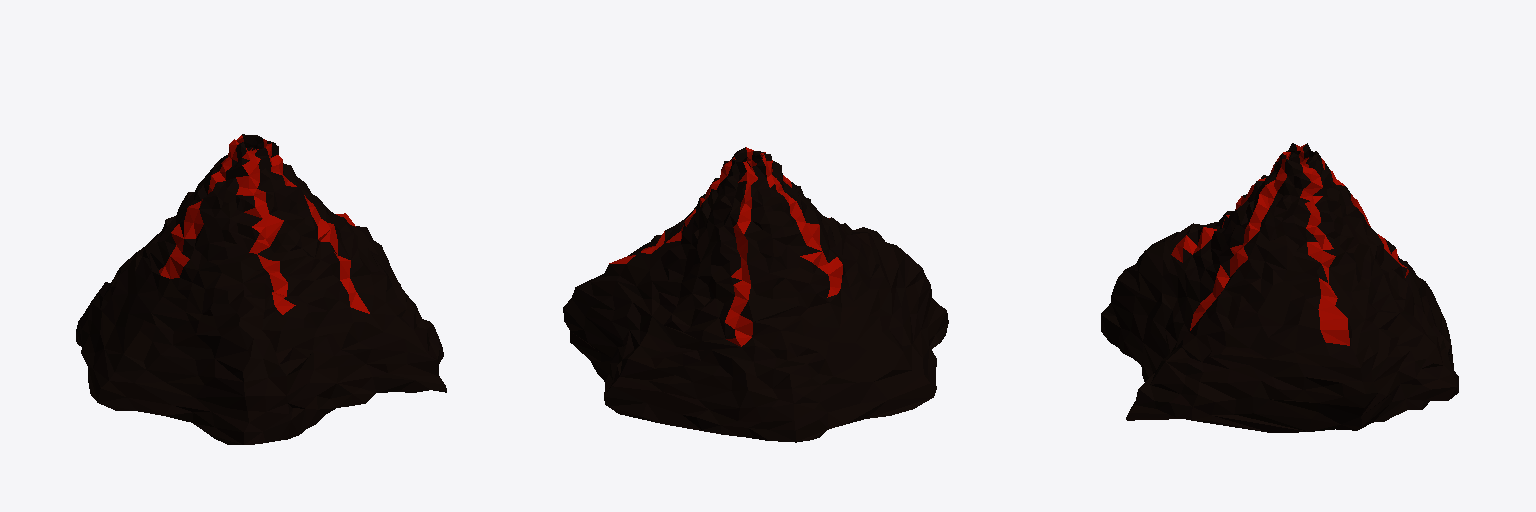
Rendered from volcano.obj.
3 renders of one model, left to right at view 1: azimuth 30°, elevation 25°; view 2: azimuth 150°, elevation 25°; view 3: azimuth 270°, elevation 25°, orthographic.
Parts seen in each view (by area): view 1: Cylinder; view 2: Cylinder; view 3: Cylinder.
Boxes of the visible parts, x1=… form: Cylinder: x1=76, y1=134, x2=446, y2=444; Cylinder: x1=563, y1=147, x2=948, y2=442; Cylinder: x1=1101, y1=143, x2=1458, y2=432.
Bounding box in the file's own units: 1.98 × 1.28 × 1.9.